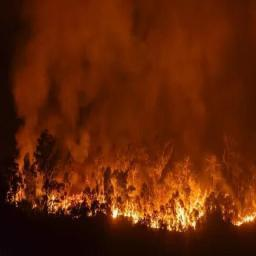Heavy smoke: (0, 0, 255, 196)
Large fire: (0, 116, 255, 230)
